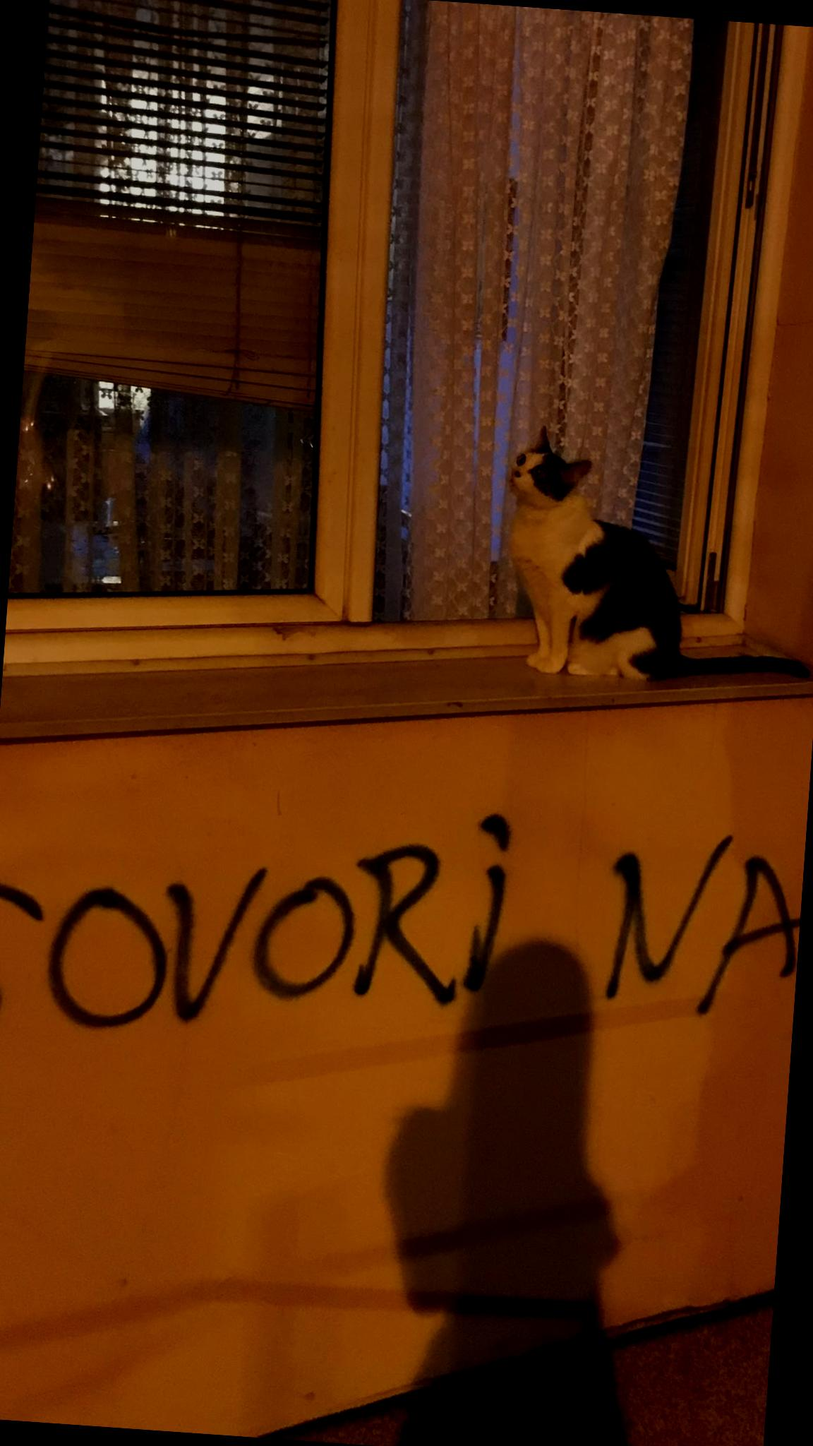macka: (496, 422, 813, 691)
